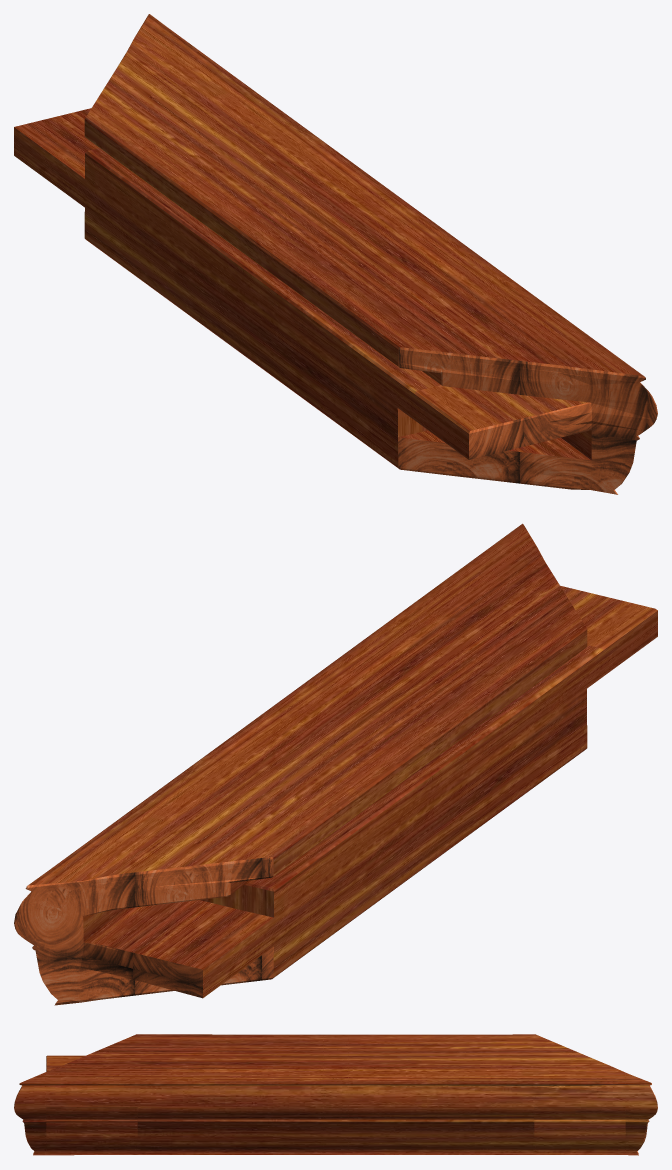
The model's file is changfangwu_J_D_dengmian_02.FBX.
3 views of the same model, one above another, from view 1: azimuth 30°, elevation 25°; view 2: azimuth 150°, elevation 25°; view 3: azimuth 270°, elevation 25° (orthographic). The views are drawn at different scales.
Parts seen in each view (by area): view 1: changfangwu_J_D_dengmian_02; view 2: changfangwu_J_D_dengmian_02; view 3: changfangwu_J_D_dengmian_02.
Boxes of the visible parts, box(x1,y1,x2,y2) form: changfangwu_J_D_dengmian_02: box(14, 14, 657, 494); changfangwu_J_D_dengmian_02: box(14, 523, 657, 1005); changfangwu_J_D_dengmian_02: box(14, 1034, 657, 1155).
Size of the model in its own units: 5.89 by 4.23 by 31.43.
2 materials, 2 textured.
